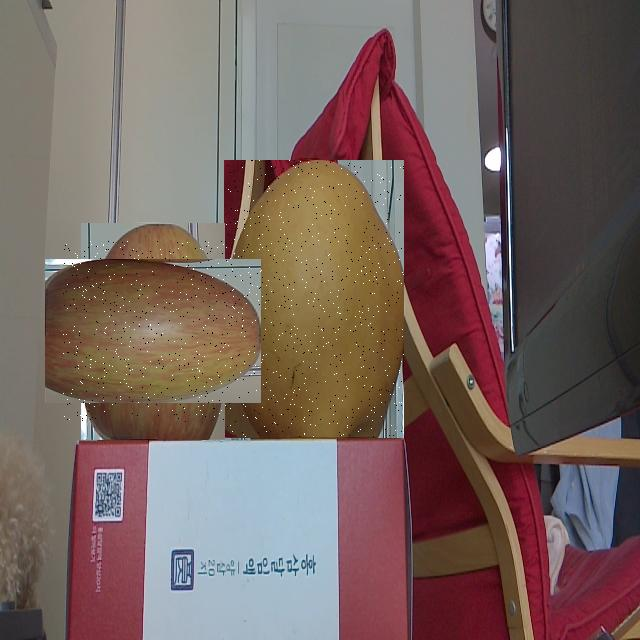apple: (63, 241, 243, 422)
pear: (224, 160, 404, 438)
